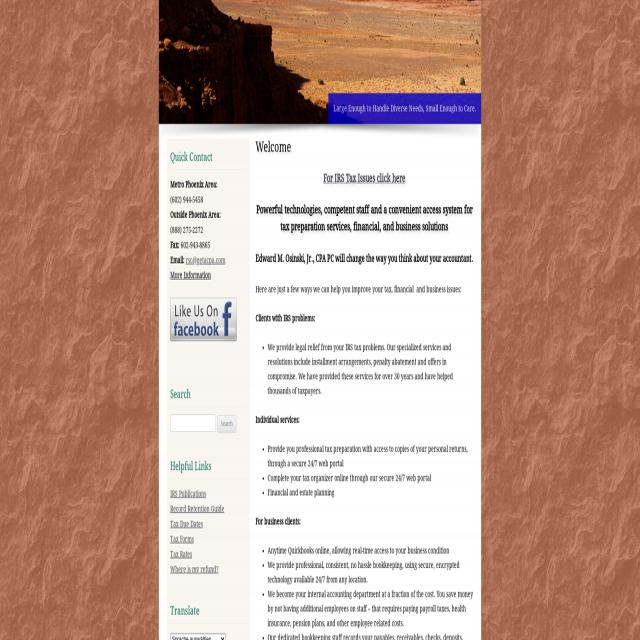button: (160, 0, 480, 321), (170, 298, 237, 341)
field: (170, 414, 216, 432), (218, 416, 236, 432)
